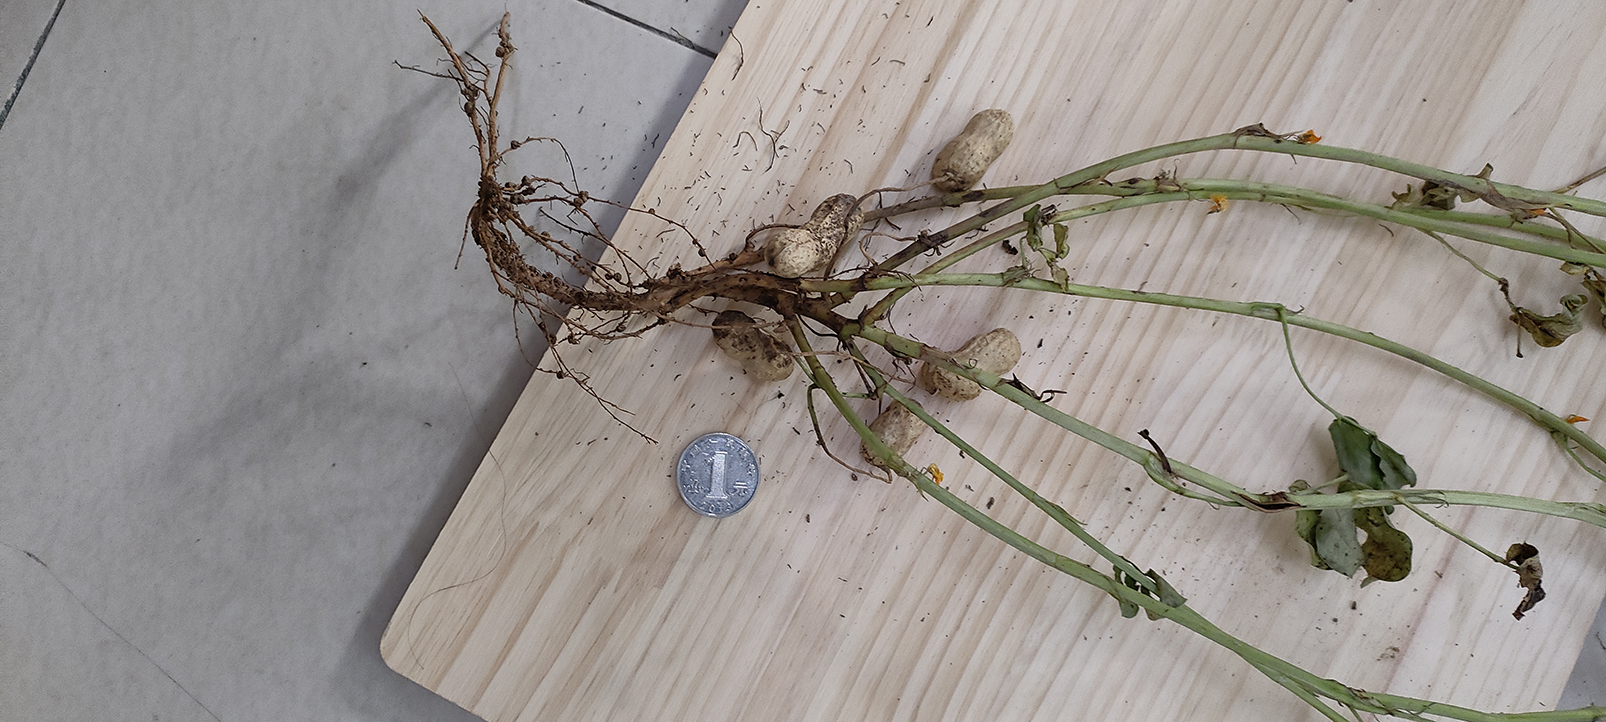h: (767, 193, 862, 277), (921, 328, 1020, 400), (931, 107, 1015, 192), (861, 402, 929, 466)
l: (711, 312, 792, 378)
